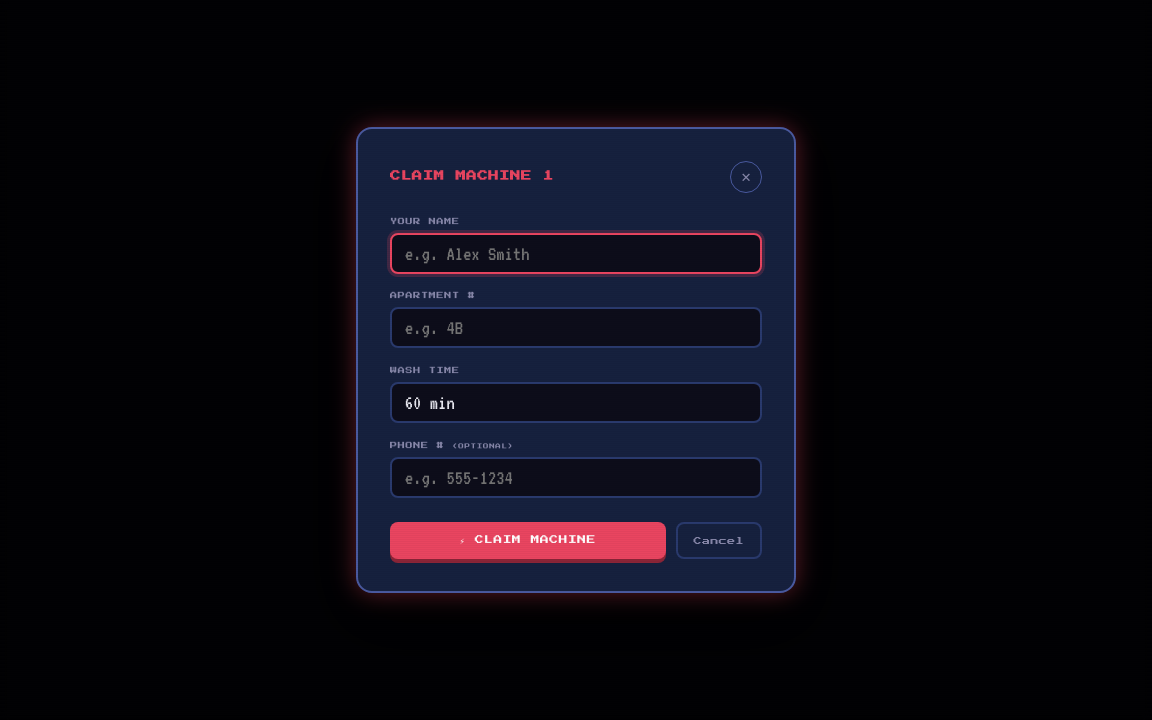
Test case: ClaimDialog - validation › shows error when apartment is empty
This screenshot has width=1152, height=720.
Type "Alice" into the field with test id "input-name" at (576, 253), box [390,233,762,274]
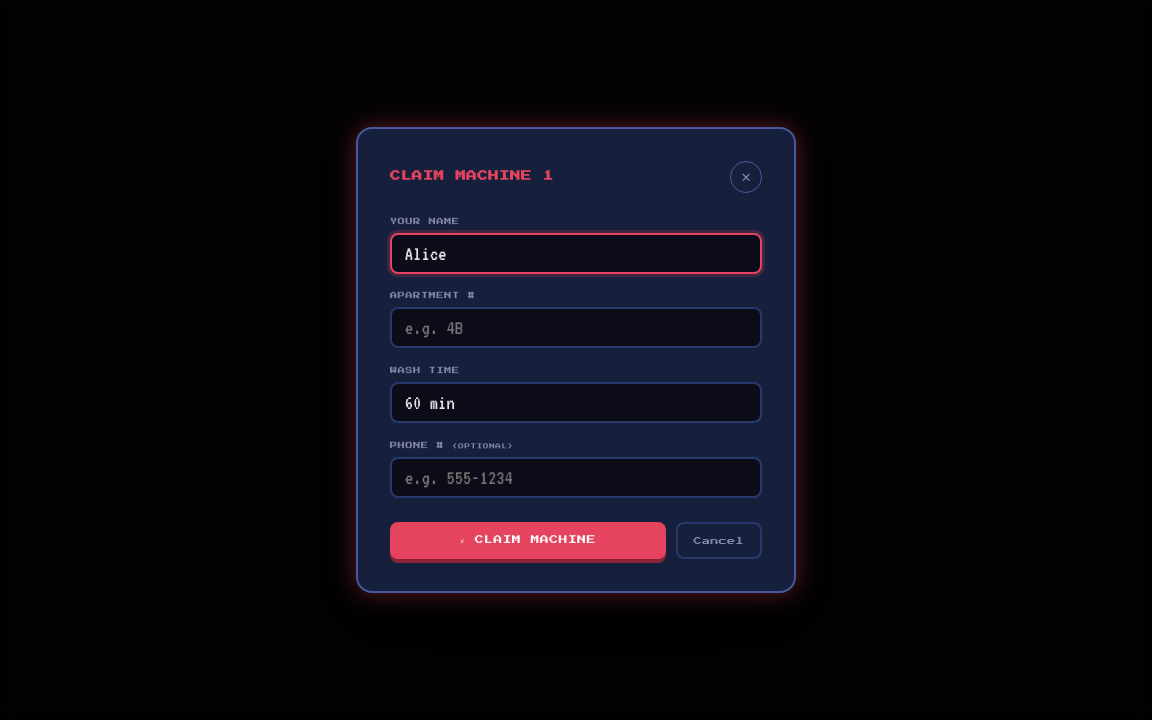
Click the button with test id "btn-claim-submit" at (528, 541), box [390,522,666,559]
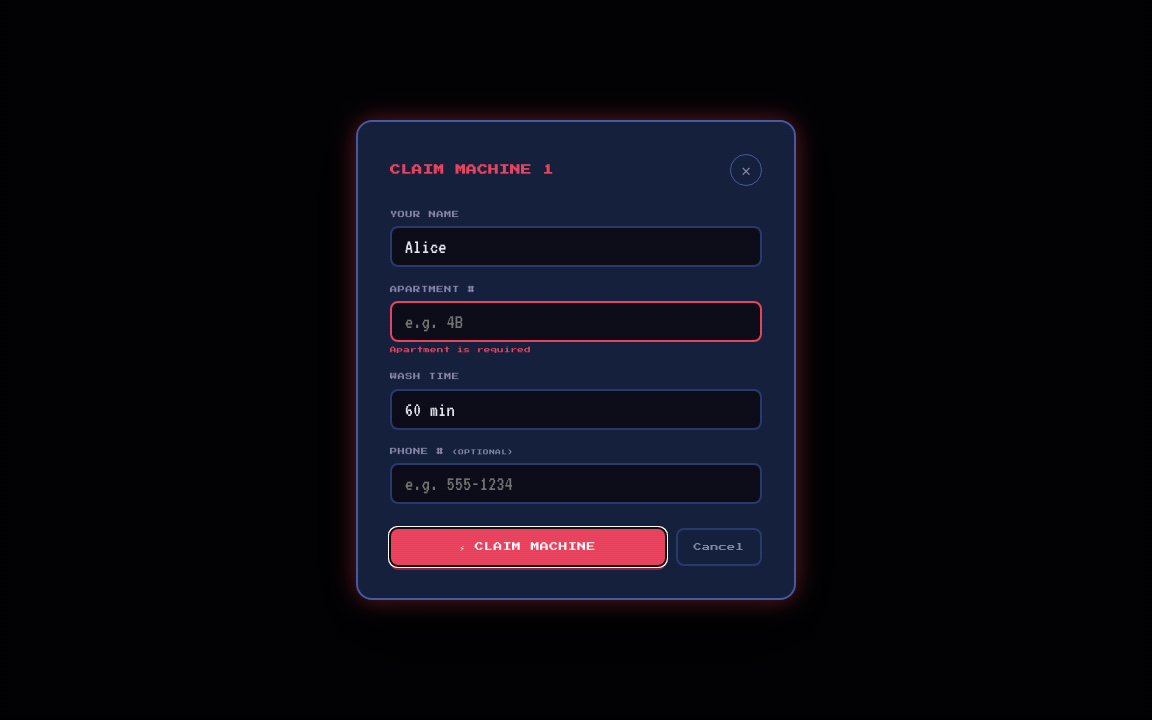
Check: the text "Apartment is required" is shown, box [390,347,531,353]
